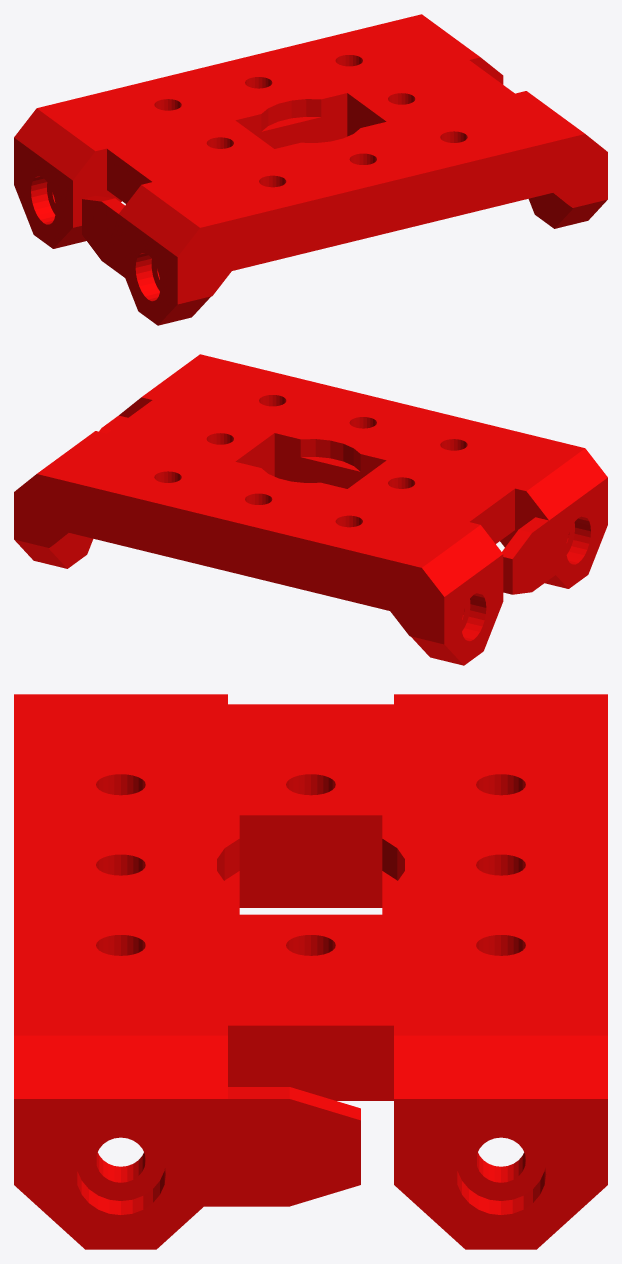
The model's file is union2_servo_left.dae.
3 renders of one model, top to bottom at view 1: azimuth 30°, elevation 25°; view 2: azimuth 150°, elevation 25°; view 3: azimuth 270°, elevation 25°, orthographic. The views are drawn at different scales.
Visible parts, largest first — view 1: node0; view 2: node0; view 3: node0.
Part boxes in pixels (x1=…): node0: x1=14, y1=14, x2=607, y2=325; node0: x1=14, y1=354, x2=607, y2=665; node0: x1=14, y1=694, x2=607, y2=1249.
Bounding box in the file's own units: 38 × 25 × 9.
